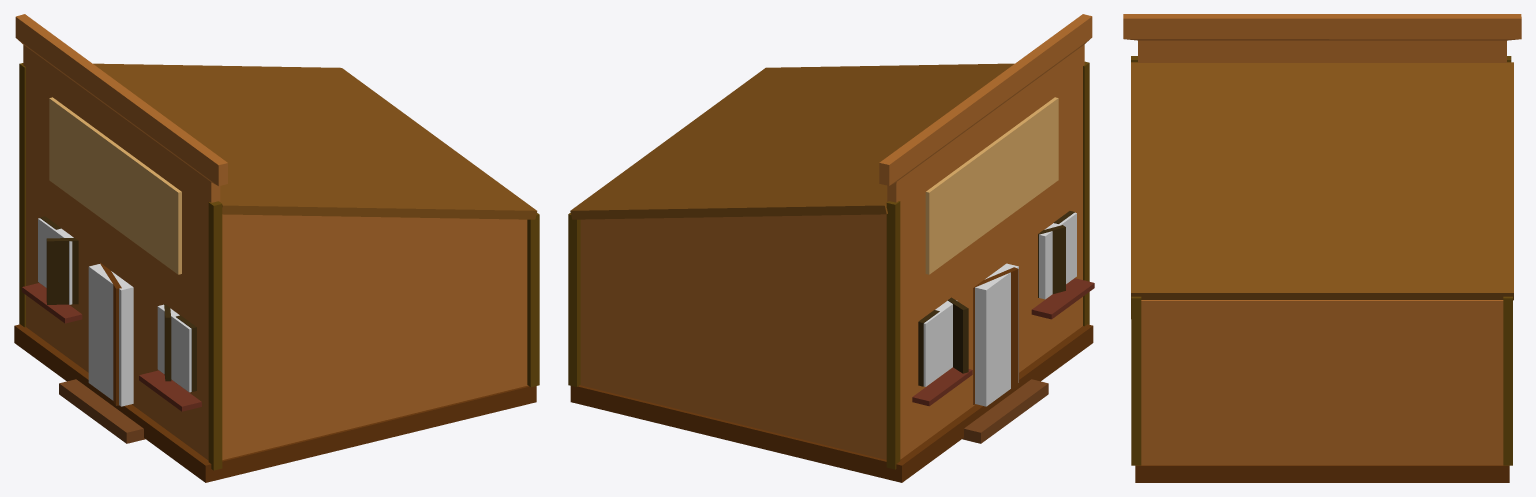
The model's file is TownBuildings.fbx.
The picture shows the model from 3 angles, left to right: view 1: azimuth 30°, elevation 25°; view 2: azimuth 150°, elevation 25°; view 3: azimuth 270°, elevation 25°; orthographic projection. The views are drawn at different scales.
Parts seen in each view (by area): view 1: LeftWall, SlantedRoof, FrontWall, Sign, Foundation, Doorway, Cube.003, Cube.001, Step, Shutter.001, WindowRight, Cube.002 (+5 smaller); view 2: RightWall, SlantedRoof, FrontWall, Sign, Foundation, Doorway, Cube.002, Cube, Step, WindowLeft, Cube.003, WindowRight (+5 smaller); view 3: SlantedRoof, BackWall, FrontWall, Foundation, Cube.001, Cube.
Part boxes in pixels (x1=…): LeftWall: x1=222, y1=214, x2=527, y2=459; SlantedRoof: x1=93, y1=63, x2=537, y2=219; FrontWall: x1=15, y1=14, x2=227, y2=460; Sign: x1=49, y1=97, x2=181, y2=274; Foundation: x1=14, y1=324, x2=536, y2=482; Doorway: x1=88, y1=264, x2=133, y2=406; Cube.003: x1=208, y1=201, x2=222, y2=470; Cube.001: x1=527, y1=213, x2=539, y2=387; Step: x1=59, y1=379, x2=145, y2=443; Shutter.001: x1=46, y1=237, x2=78, y2=304; WindowRight: x1=157, y1=304, x2=191, y2=392; Cube.002: x1=19, y1=63, x2=25, y2=327; RightWall: x1=580, y1=214, x2=886, y2=459; SlantedRoof: x1=570, y1=63, x2=1014, y2=219; FrontWall: x1=879, y1=14, x2=1092, y2=459; Sign: x1=925, y1=97, x2=1058, y2=274; Foundation: x1=570, y1=324, x2=1093, y2=482; Doorway: x1=975, y1=263, x2=1018, y2=406; Cube.002: x1=886, y1=201, x2=900, y2=469; Cube: x1=568, y1=213, x2=580, y2=386; Step: x1=962, y1=379, x2=1048, y2=443; WindowLeft: x1=923, y1=300, x2=957, y2=386; Cube.003: x1=1083, y1=61, x2=1089, y2=326; WindowRight: x1=1039, y1=212, x2=1076, y2=299; SlantedRoof: x1=1131, y1=62, x2=1513, y2=300; BackWall: x1=1141, y1=300, x2=1503, y2=465; FrontWall: x1=1123, y1=14, x2=1521, y2=62; Foundation: x1=1135, y1=465, x2=1509, y2=482; Cube.001: x1=1131, y1=296, x2=1141, y2=465; Cube: x1=1503, y1=296, x2=1512, y2=465.
Bounding box in the file's own units: 7970 × 7036 × 8042.
